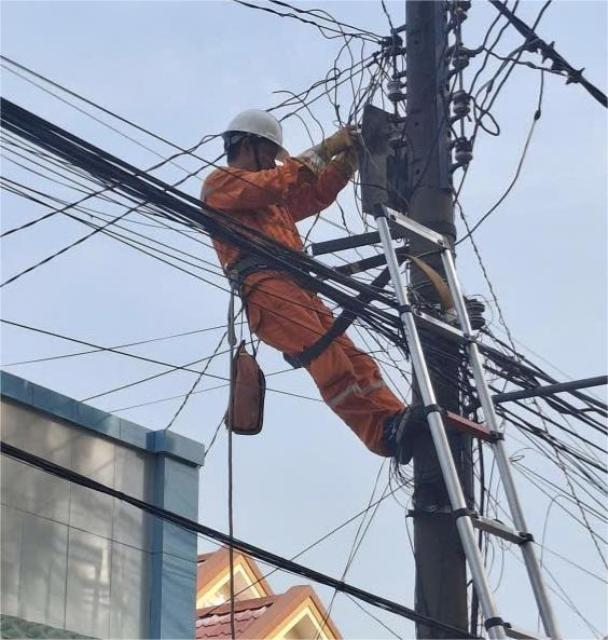gloves: (325, 136, 380, 174), (306, 125, 358, 164)
harness: (220, 241, 348, 287)
helmet: (218, 103, 308, 169)
shoes: (386, 398, 433, 459)
